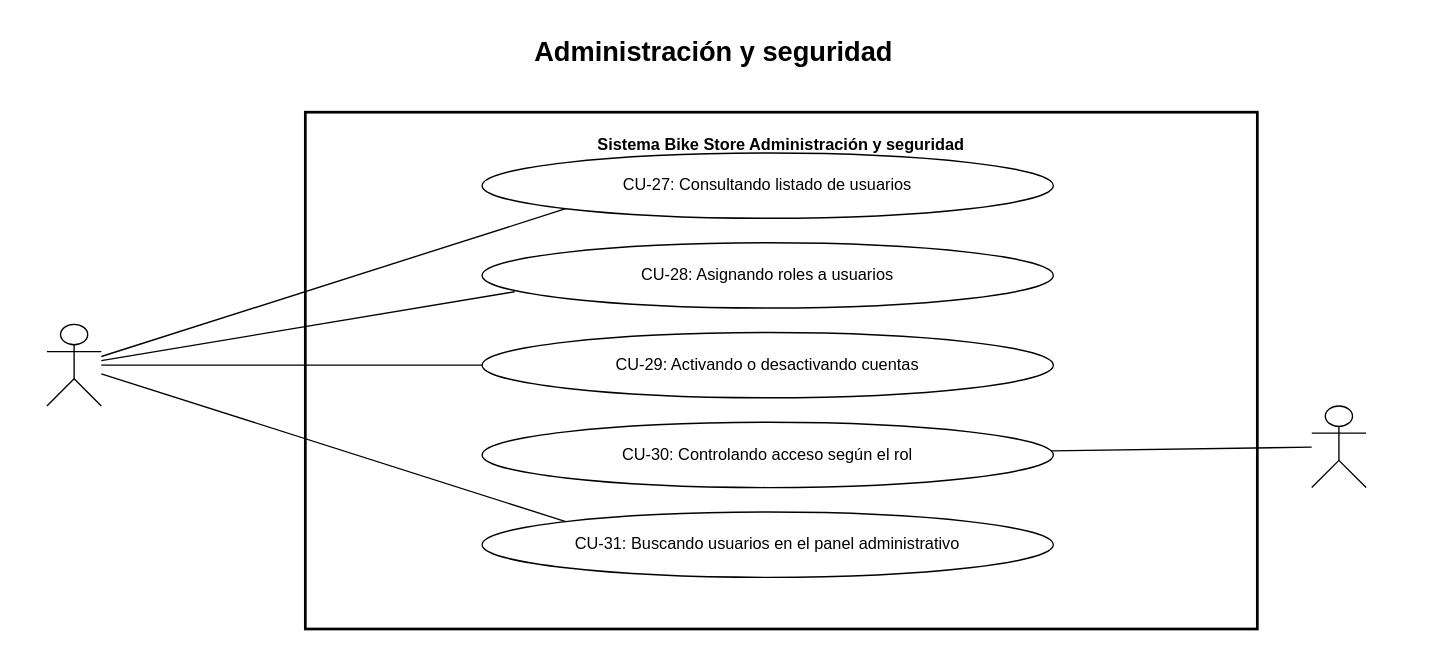
The diagram is 1435 pixels wide and 653 high, and some of its shapes have lost their labels. The shapes that lost their labels are listed below. From the top down, each one's centre as x and y in pixels, then its label:
At (73,364): "Administrador".
At (1338,446): "Usuario Autenticado".
